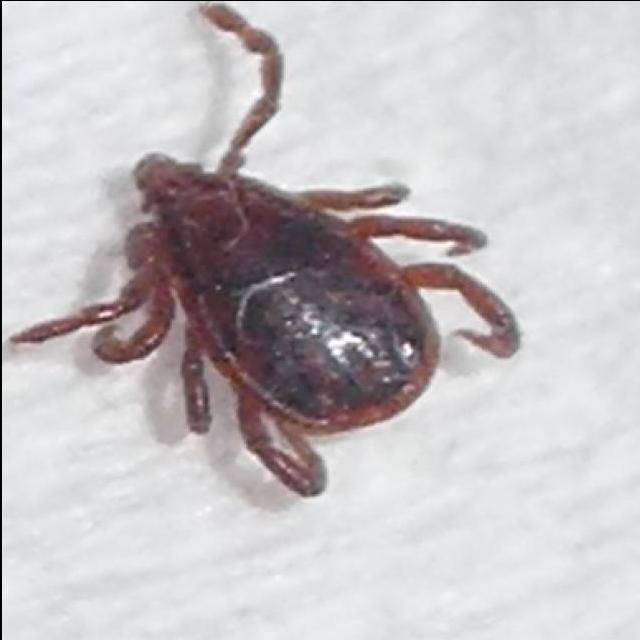Rhipicephalus Sanguineus-M: (8, 0, 520, 499)
